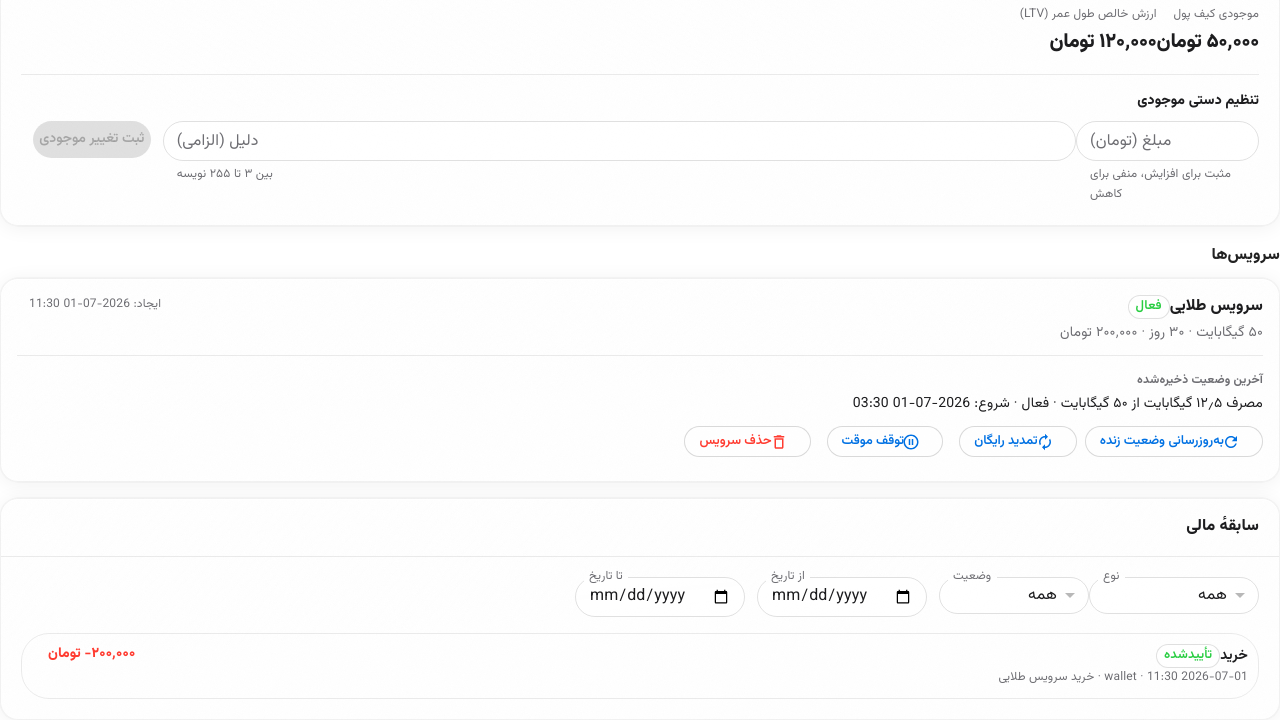
storefront customer detail › shows the live status distinctly from the stored snapshot on refresh
(page scrolled)
Expected: the text "آخرین وضعیت ذخیره‌شده" is shown, [1137,371,1263,389]
Click the button "به‌روزرسانی وضعیت زنده".
click(1174, 442)  # box [1085,426,1263,457]
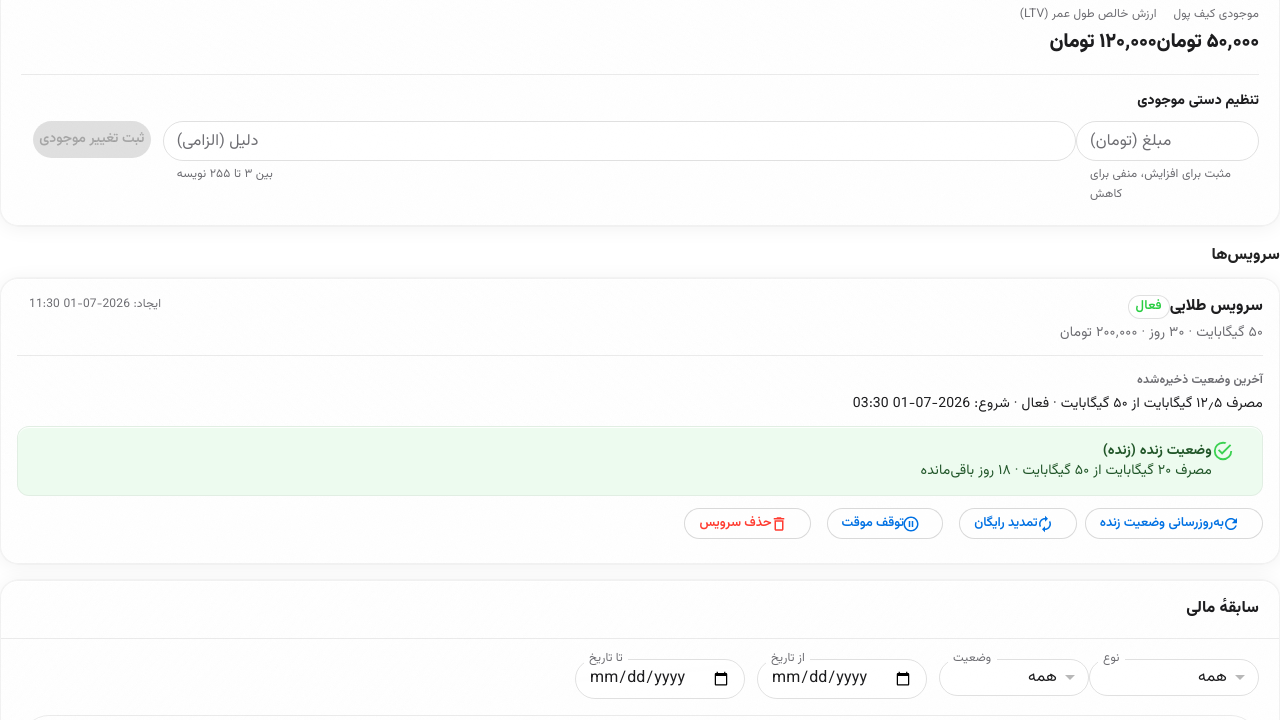
Result: the text "وضعیت زنده (زنده)" is shown at [1103,440,1212,462]
Result: the text "مصرف ۲۰ گیگابایت از ۵۰ گیگابایت · ۱۸ روز باقی‌مانده" is shown at [921,461,1212,481]
